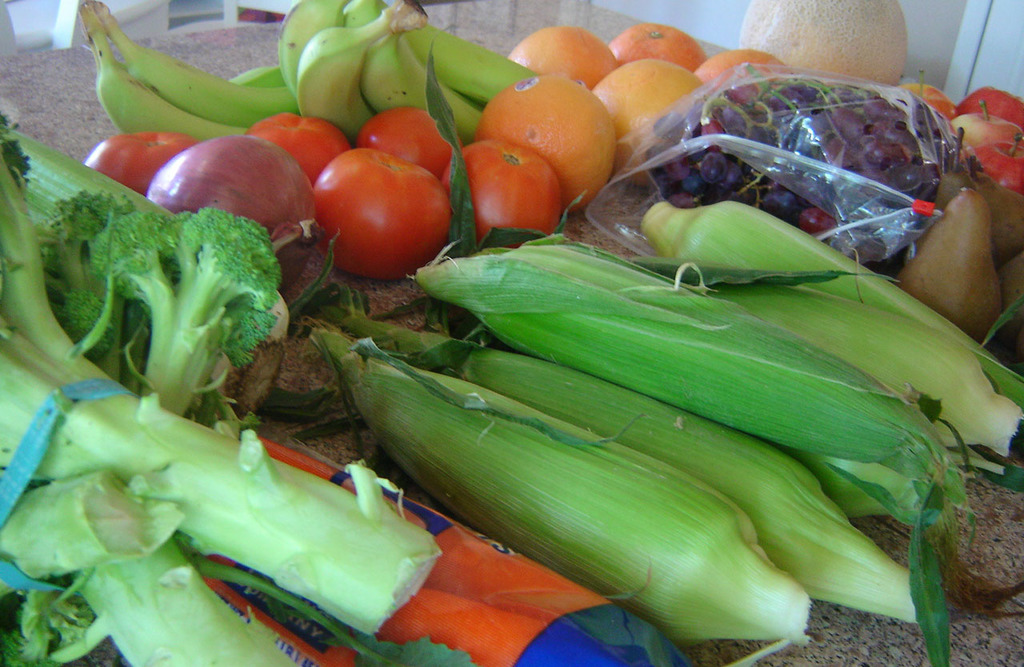Tomato: (307, 138, 455, 275), (441, 135, 565, 243), (360, 106, 450, 198), (86, 128, 195, 200), (248, 111, 346, 181)
